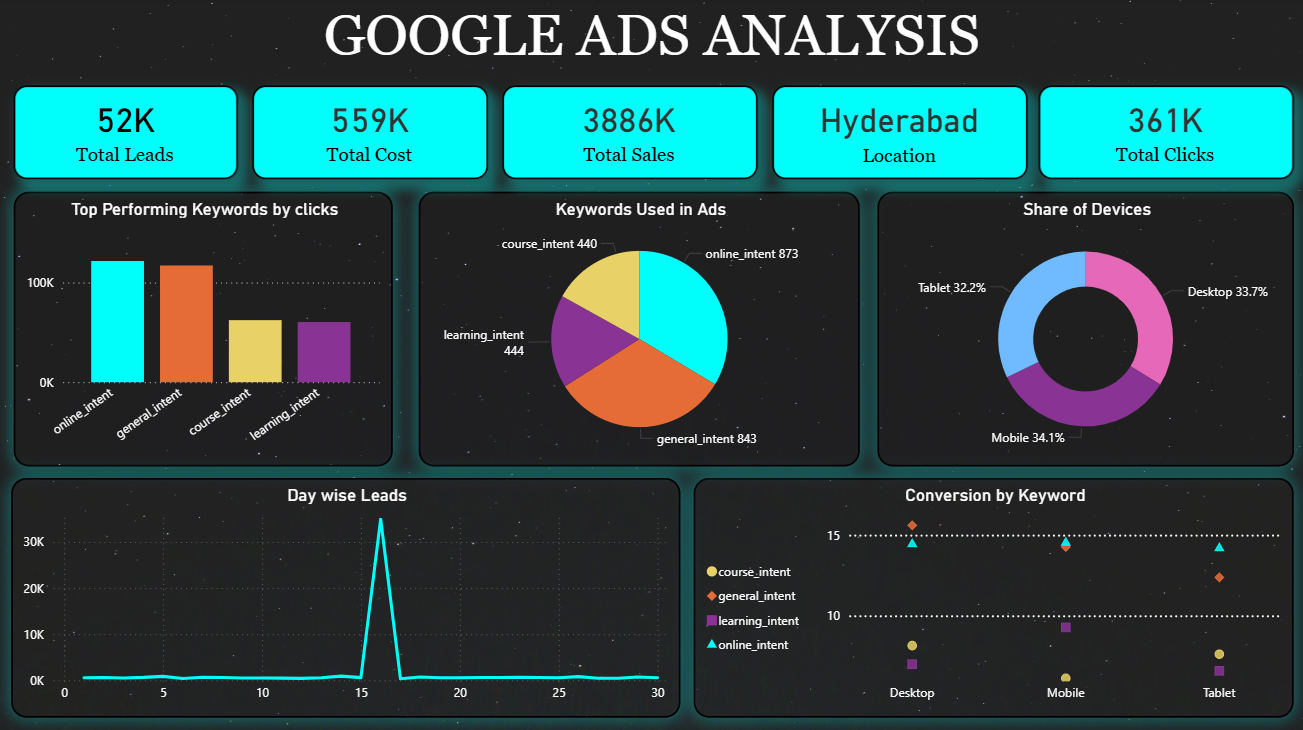

The dashboard page shown, as its layout file describes it:
{"tool":"powerbi","page":{"name":"Page 1","canvas":[1280,720],"ordinal":0},"visuals":[{"type":"textbox","box":[0,0,1279.8,74.8],"z":0},{"type":"lineStackedColumnComboChart","title":"Top Performing Keywords by clicks","fields":{"Category":["Clean_data.Keyword_Category"],"Y":["Sum(Clean_data.Clicks)"]},"box":[13.5,190.2,371.8,269.9],"z":1000},{"type":"scatterChart","title":"Conversion by Keyword","fields":{"X":["Clean_data.Device"],"Y":["Sum(Clean_data.Conversion Rate)"],"Series":["Clean_data.Keyword_Category"]},"box":[681,471.2,589,235.6],"z":2000},{"type":"pieChart","title":"Keywords Used in Ads","fields":{"Y":["CountNonNull(Clean_data.Keyword_Category)"],"Category":["Clean_data.Keyword_Category"]},"box":[411,190.2,433.1,269.9],"z":3000},{"type":"lineChart","title":"Day wise Leads","fields":{"Category":["Clean_data.Ad_Date.Variation.Date Hierarchy.Day"],"Y":["Sum(Clean_data.Leads)"]},"box":[11,471.2,656.4,235.6],"z":4000},{"type":"donutChart","title":"Share of Devices","fields":{"Series":["Clean_data.Device"],"Y":["Sum(Clean_data.Clicks)"]},"box":[861.4,190.2,408.6,269.9],"z":5000},{"type":"advanceCardE03760C5AB684758B56AA29F9E6C257B","fields":{"mainMeasure":["Clean_data.Total Leads"]},"box":[13.7,85.8,220.2,92.1],"z":6000},{"type":"advanceCardE03760C5AB684758B56AA29F9E6C257B","title":"Total Cost","fields":{"mainMeasure":["Clean_data.Total Cost"]},"box":[247.5,85.8,231.4,92.1],"z":7000},{"type":"advanceCardE03760C5AB684758B56AA29F9E6C257B","fields":{"mainMeasure":["Clean_data.Total Sales"]},"box":[493.9,85.8,250,92.1],"z":8000},{"type":"advanceCardE03760C5AB684758B56AA29F9E6C257B","fields":{"mainMeasure":["Min(Clean_data.Location)"]},"box":[758.8,85.8,250,92.1],"z":9000},{"type":"advanceCardE03760C5AB684758B56AA29F9E6C257B","fields":{"mainMeasure":["Sum(Clean_data.Clicks)"]},"box":[1020,85.8,250,92.1],"z":10000}]}

Visuals, with their boxes in screenshot pixels (x1, y1, x2, y2), scaled from the page's 1280x720 canvas onto the 1303x730 screenshot:
textbox: bbox(0, 0, 1302, 76)
"Top Performing Keywords by clicks" lineStackedColumnComboChart: bbox(14, 193, 392, 466)
"Conversion by Keyword" scatterChart: bbox(693, 478, 1293, 717)
"Keywords Used in Ads" pieChart: bbox(418, 193, 859, 466)
"Day wise Leads" lineChart: bbox(11, 478, 679, 717)
"Share of Devices" donutChart: bbox(877, 193, 1293, 466)
advanceCardE03760C5AB684758B56AA29F9E6C257B - Clean_data.Total Leads: bbox(14, 87, 238, 180)
"Total Cost" advanceCardE03760C5AB684758B56AA29F9E6C257B: bbox(252, 87, 488, 180)
advanceCardE03760C5AB684758B56AA29F9E6C257B - Clean_data.Total Sales: bbox(503, 87, 757, 180)
advanceCardE03760C5AB684758B56AA29F9E6C257B - Min(Clean_data.Location): bbox(772, 87, 1027, 180)
advanceCardE03760C5AB684758B56AA29F9E6C257B - Sum(Clean_data.Clicks): bbox(1038, 87, 1293, 180)
